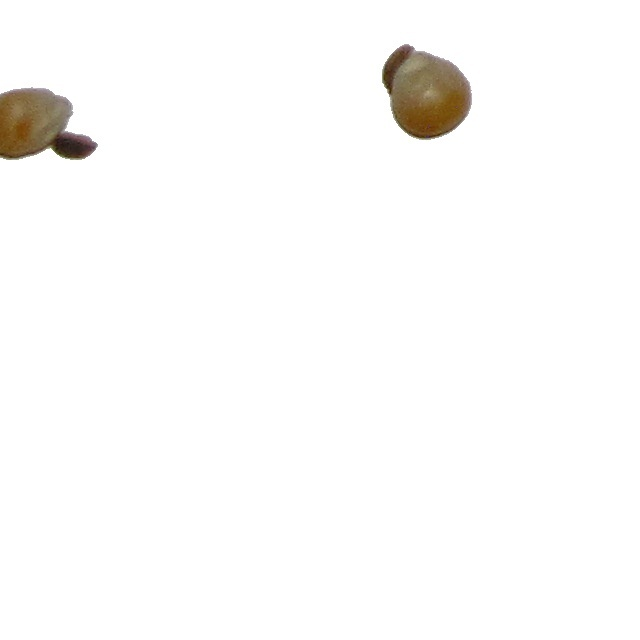mais: (381, 43, 473, 141)
